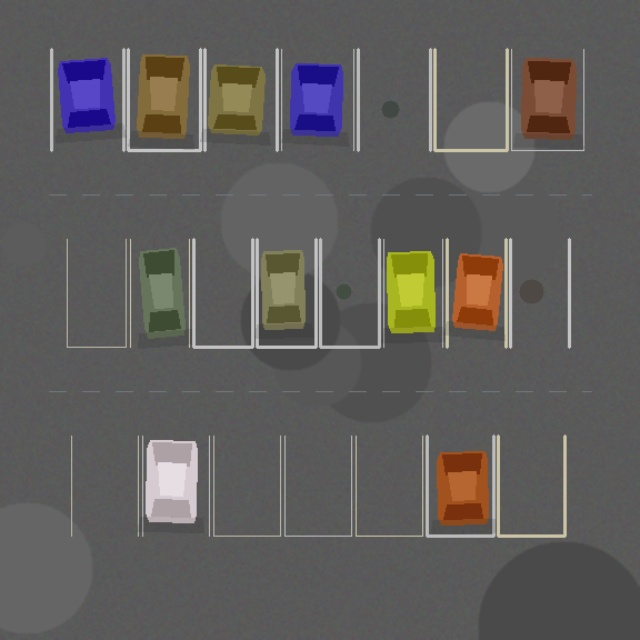space-empty: (434, 49, 507, 150), (358, 49, 430, 150), (71, 436, 138, 536), (213, 436, 280, 536), (284, 436, 351, 536), (356, 436, 422, 536), (498, 436, 564, 536), (67, 239, 126, 347), (193, 239, 252, 347), (320, 239, 379, 347), (510, 239, 569, 347)
space-occupied: (204, 49, 277, 150), (51, 49, 123, 150), (128, 49, 200, 150), (281, 49, 353, 150), (511, 49, 583, 150), (142, 436, 209, 536), (427, 436, 493, 536), (130, 239, 189, 347), (257, 239, 316, 347), (383, 239, 442, 347), (447, 239, 506, 347)
